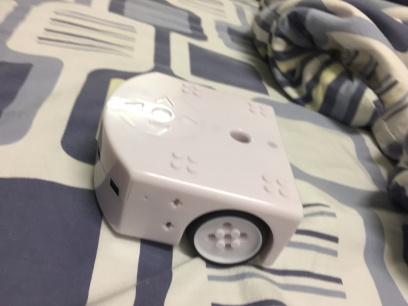thymio: (85, 69, 311, 272)
